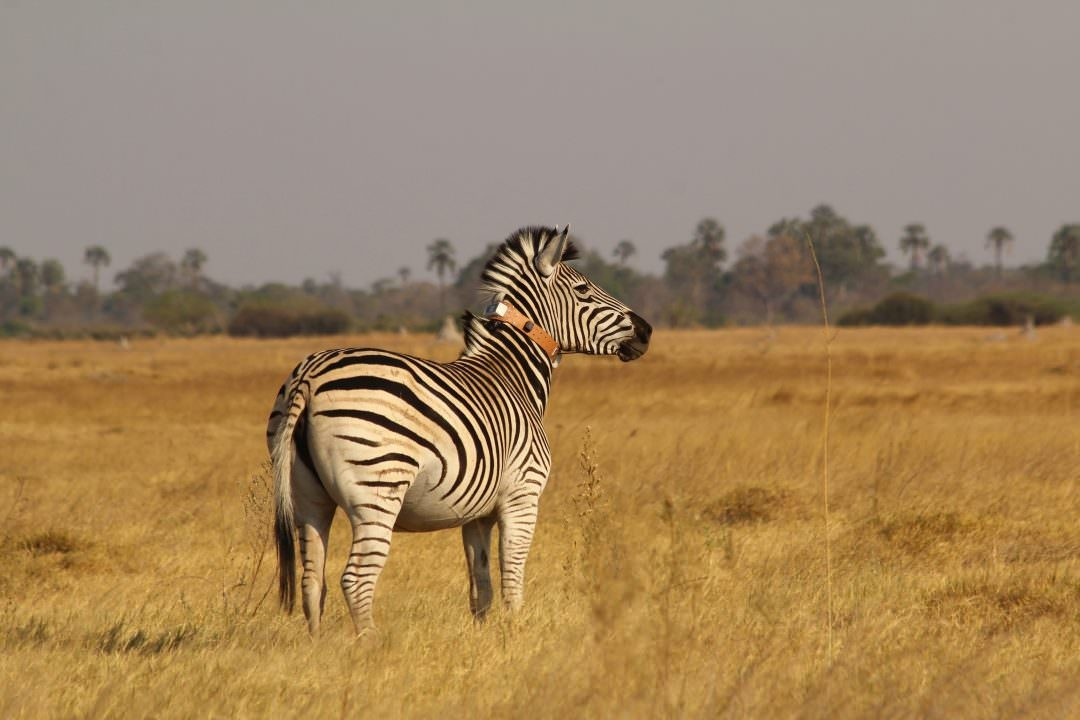zebra: (263, 222, 653, 641)
